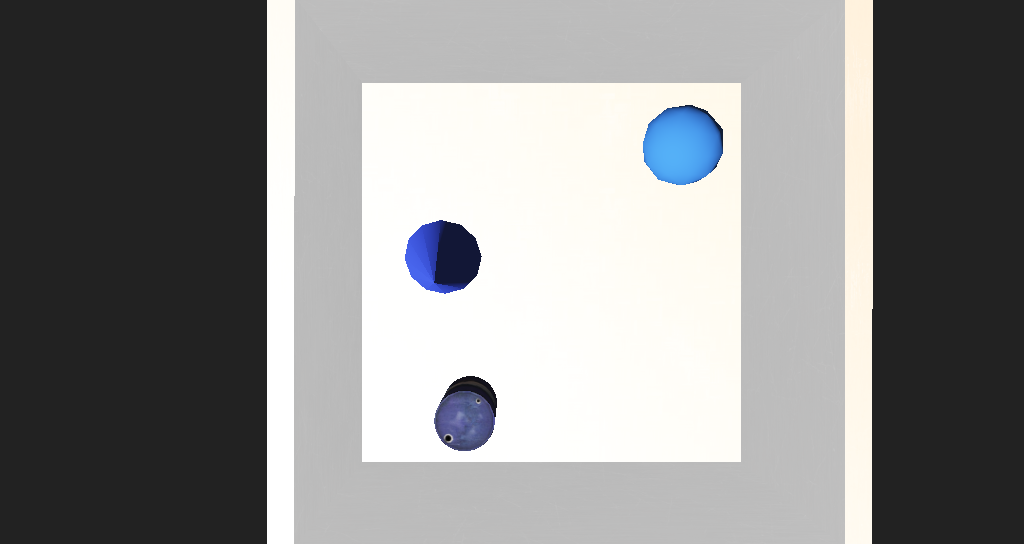cone: (411, 327, 465, 370)
cylinder: (377, 239, 445, 296)
sphere: (573, 179, 640, 222)
